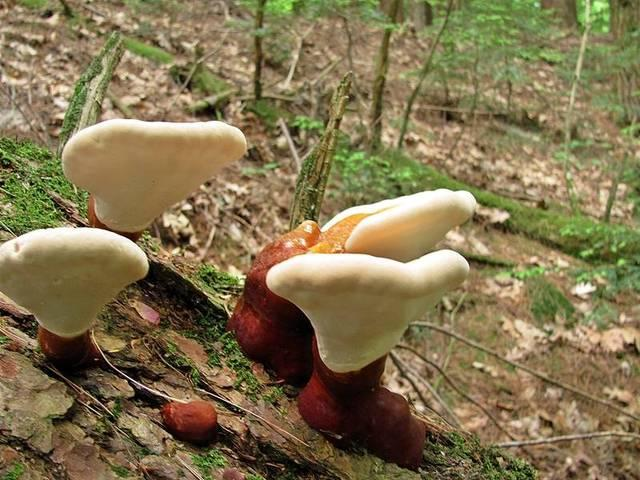poisonous_mushroom: (229, 186, 477, 467), (60, 116, 248, 239), (0, 225, 149, 366)
